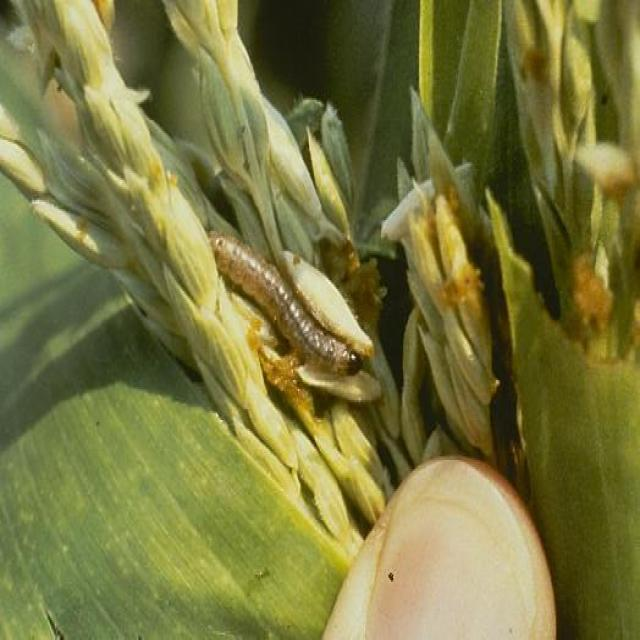cornborer-Larva-: (201, 222, 371, 387)
